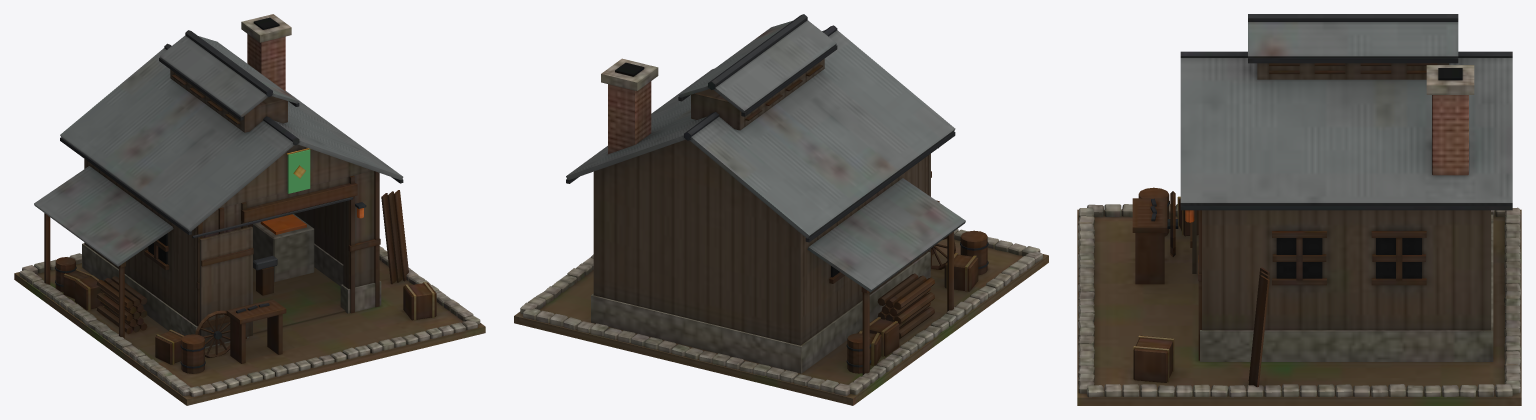
The model's file is oficina-industrial-v01.glb.
The picture shows the model from 3 angles, left to right: view 1: azimuth 30°, elevation 25°; view 2: azimuth 150°, elevation 25°; view 3: azimuth 270°, elevation 25°; orthographic projection. The views are drawn at different scales.
Visible parts, largest first — view 1: OficinaIndustrial_LOD0, OficinaIndustrial_Time_LOD0; view 2: OficinaIndustrial_LOD0; view 3: OficinaIndustrial_LOD0.
Boxes of the visible parts, x1,y1,x2,y2 form: OficinaIndustrial_LOD0: (14, 14, 485, 405); OficinaIndustrial_Time_LOD0: (287, 149, 310, 193); OficinaIndustrial_LOD0: (514, 14, 1048, 405); OficinaIndustrial_LOD0: (1077, 14, 1521, 405).
Bounding box in the file's own units: 5.8 × 4.29 × 5.8.
Materials: 2 (1 with a texture image).
